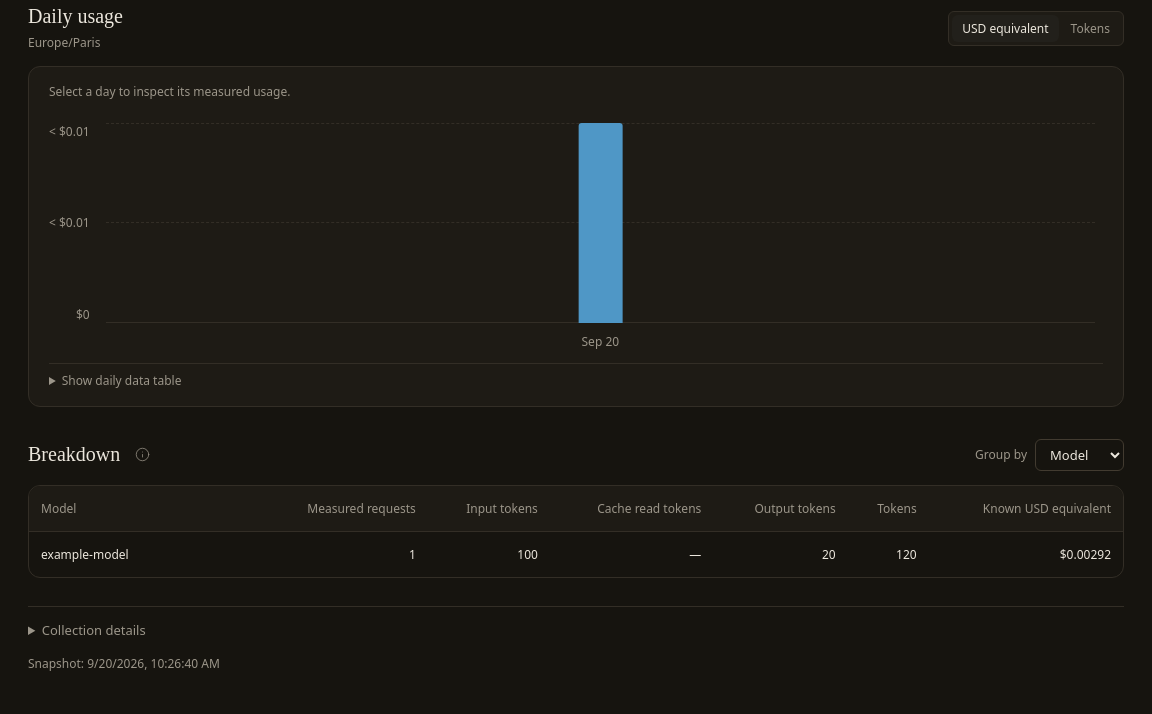
renders known zero distinctly from missing values and offers an accessible daily table
(page scrolled)
Click the heading "Show daily data table".
click(122, 380)  # box [62, 372, 181, 389]
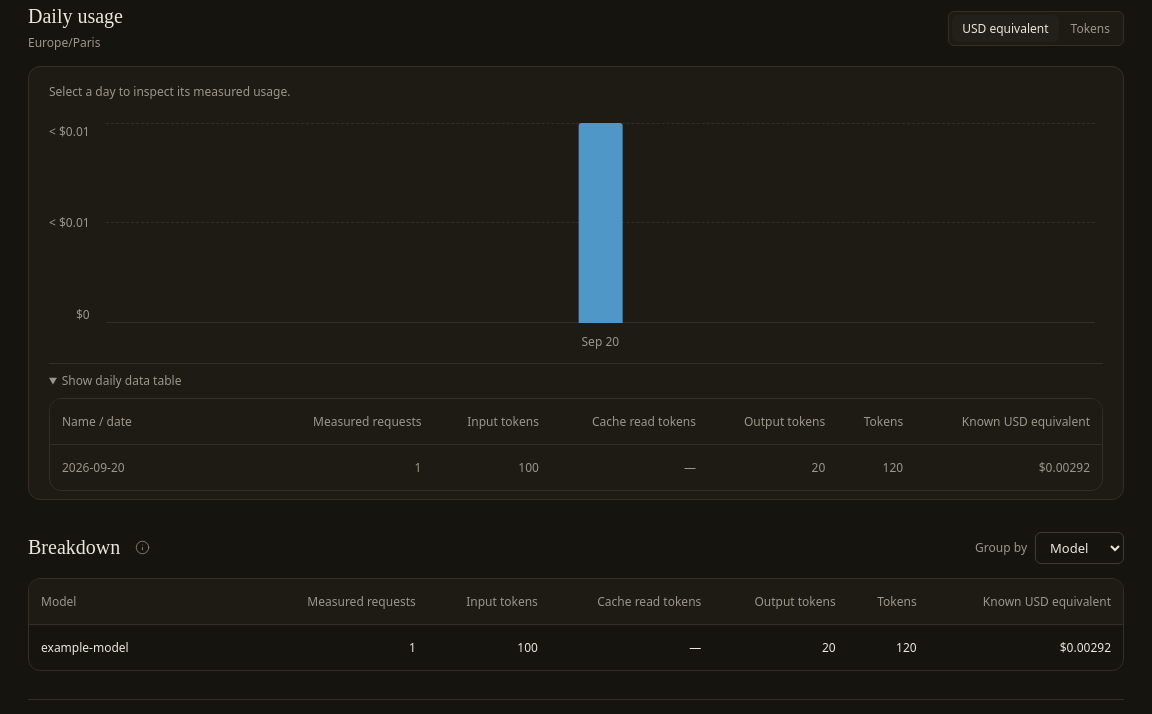
Expected: the table named "Daily usage" is shown, [50, 399, 1102, 490]
